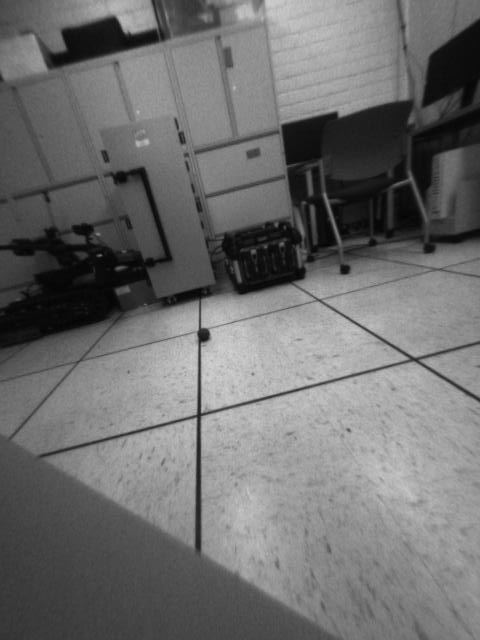dogtoy: (192, 321, 217, 348)
